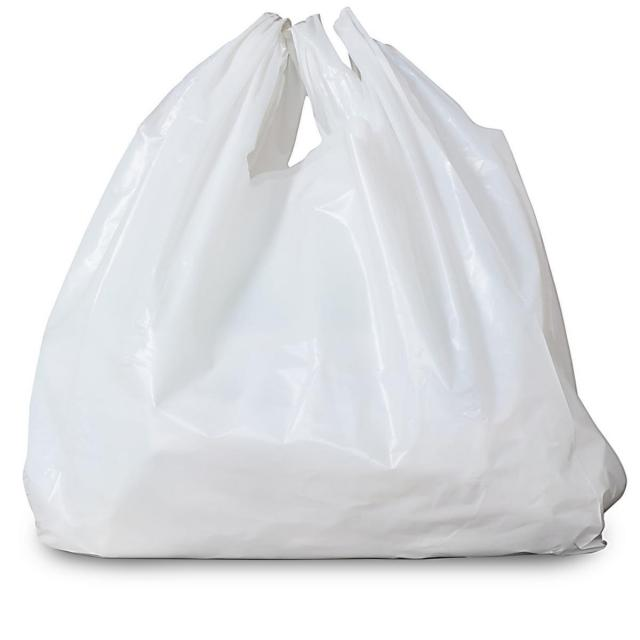plastic_bag: (25, 12, 629, 560)
